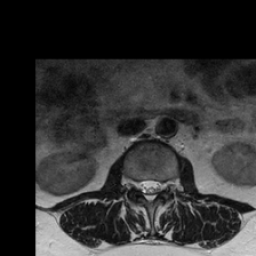CCS_normal: (147, 172, 153, 208)
LFS_normal: (162, 174, 168, 196)
LLS_normal: (153, 174, 161, 198)
RFS_normal: (130, 172, 138, 194)
RLS_normal: (138, 173, 147, 199)
